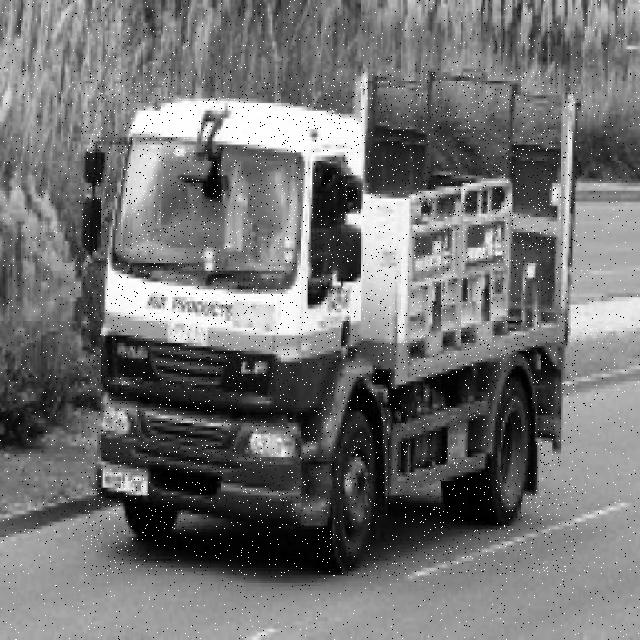Truck- 2-Axle: (83, 71, 578, 576)
